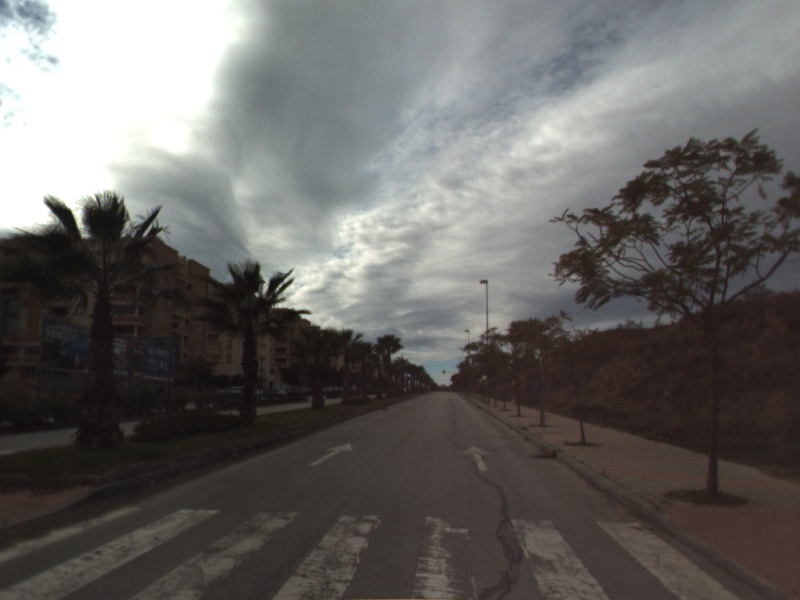STRAIGHT: (307, 441, 354, 468), (460, 443, 493, 473)
